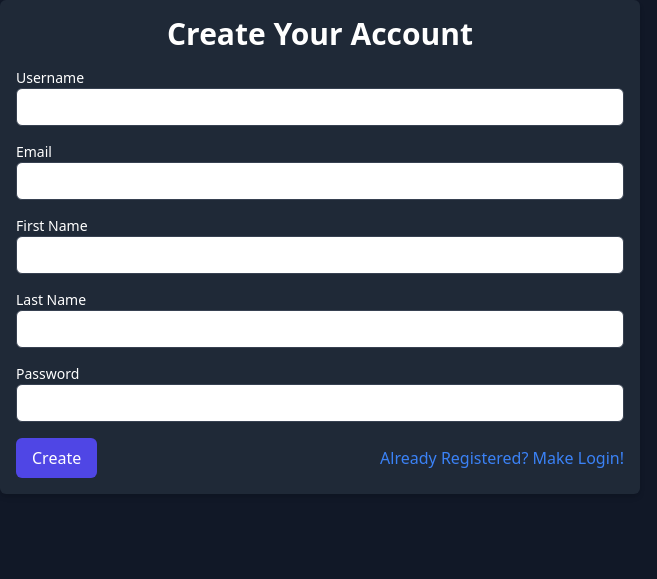
Test case: Create Account form › should find a "Create" submit button and a error, and then set its error text to "Please, fill all the fields" on click
This screenshot has width=657, height=579.
Click the button with aria-label "submit-button" at x=57, y=458, box x1=16 y1=438 x2=97 y2=478
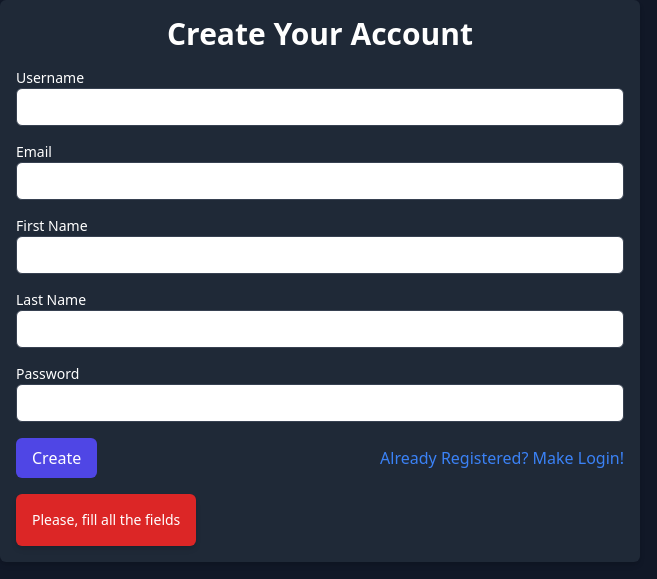
Expected: the text "Please, fill all the fields" is shown, x1=32 y1=510 x2=180 y2=530
